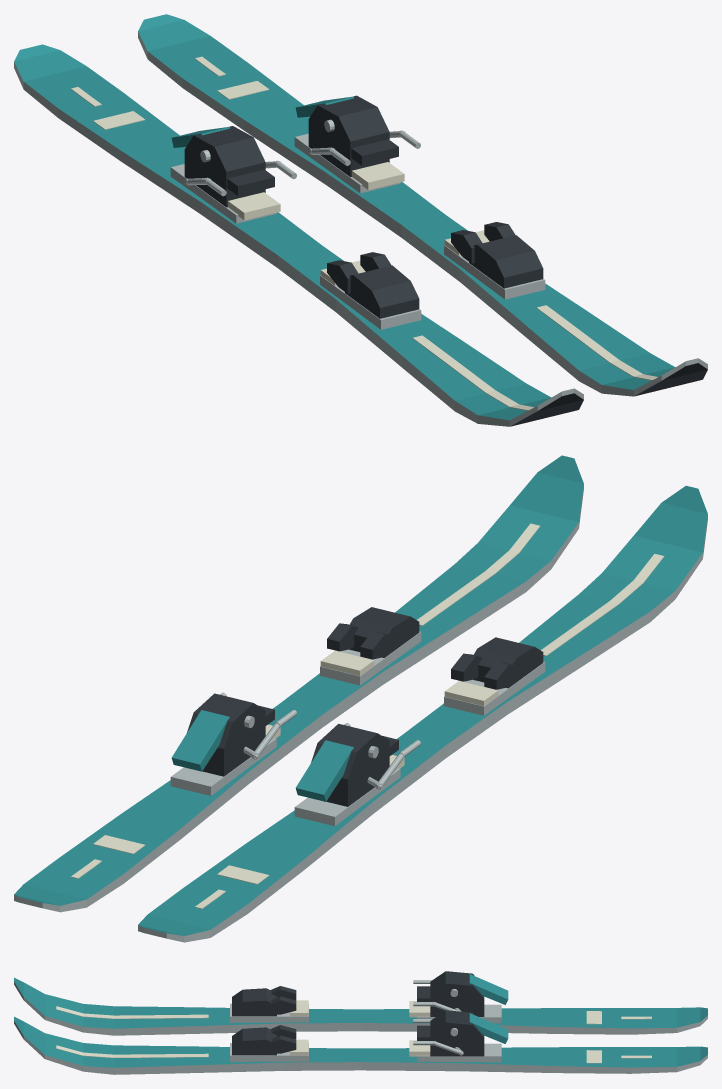
3 views of the same model, one above another, from view 1: azimuth 30°, elevation 25°; view 2: azimuth 150°, elevation 25°; view 3: azimuth 270°, elevation 25° (orthographic). The views are drawn at different scales.
Visible parts, largest first — view 1: Ski_Left_Board, Ski_Right_Board, Ski_Right_HeelHousing, Ski_Left_HeelHousing, Ski_Left_ToeHousing, Ski_Right_ToeHousing, Ski_Right_ToeRail, Ski_Left_ToeRail, Ski_Right_FrontMark, Ski_Left_FrontMark, Ski_Left_HeelSolePad, Ski_Right_HeelSolePad (+6 smaller); view 2: Ski_Right_Board, Ski_Left_Board, Ski_Left_HeelHousing, Ski_Right_HeelHousing, Ski_Right_HeelReleaseLever, Ski_Left_HeelReleaseLever, Ski_Left_ToeHousing, Ski_Right_ToeHousing, Ski_Left_HeelRail, Ski_Right_HeelRail, Ski_Right_FrontMark, Ski_Left_FrontMark (+6 smaller); view 3: Ski_Right_Board, Ski_Left_Board, Ski_Right_HeelHousing, Ski_Left_HeelHousing, Ski_Left_ToeHousing, Ski_Right_ToeHousing, Ski_Right_HeelRail, Ski_Left_FrontMark, Ski_Right_FrontMark, Ski_Left_ToeRail, Ski_Right_ToeRail, Ski_Right_HeelReleaseLever (+14 smaller).
Boxes of the visible parts, x1,y1,x2,y2 form: Ski_Left_Board: (14,44,583,426); Ski_Right_Board: (138,14,707,396); Ski_Right_HeelHousing: (308,95,389,177); Ski_Left_HeelHousing: (184,126,265,207); Ski_Left_ToeHousing: (345,265,419,318); Ski_Right_ToeHousing: (469,235,543,288); Ski_Right_ToeRail: (444,245,545,299); Ski_Left_ToeRail: (320,275,421,329); Ski_Right_FrontMark: (537,305,657,380); Ski_Left_FrontMark: (412,335,533,410); Ski_Left_HeelSolePad: (228,192,280,220); Ski_Right_HeelSolePad: (352,162,404,190); Ski_Right_Board: (14,455,583,912); Ski_Left_Board: (138,485,707,942); Ski_Left_HeelHousing: (311,723,389,806); Ski_Right_HeelHousing: (187,693,265,776); Ski_Right_HeelReleaseLever: (171,710,229,771); Ski_Left_HeelReleaseLever: (295,740,353,801); Ski_Left_ToeHousing: (473,637,543,688); Ski_Right_ToeHousing: (349,607,419,657); Ski_Left_HeelRail: (294,768,400,826); Ski_Right_HeelRail: (170,738,276,795); Ski_Right_FrontMark: (417,523,540,625); Ski_Left_FrontMark: (541,553,664,656); Ski_Right_Board: (14,1016,707,1074); Ski_Left_Board: (14,977,707,1035); Ski_Right_HeelHousing: (430,1010,484,1056); Ski_Left_HeelHousing: (430,971,484,1016); Ski_Left_ToeHousing: (232,988,276,1016); Ski_Right_ToeHousing: (232,1027,276,1055); Ski_Right_HeelRail: (417,1043,501,1062); Ski_Left_FrontMark: (56,1006,208,1018); Ski_Right_FrontMark: (56,1045,208,1058); Ski_Left_ToeRail: (230,1003,308,1022); Ski_Right_ToeRail: (230,1043,308,1061); Ski_Right_HeelReleaseLever: (469,1013,508,1043).
Bounding box in the file's own units: 0.3874 × 0.135 × 1.8.
